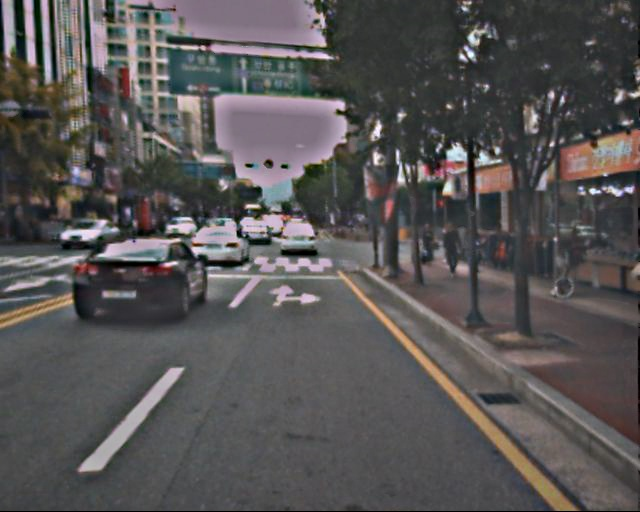person: (440, 220, 466, 280), (463, 223, 487, 281), (422, 221, 440, 269)
